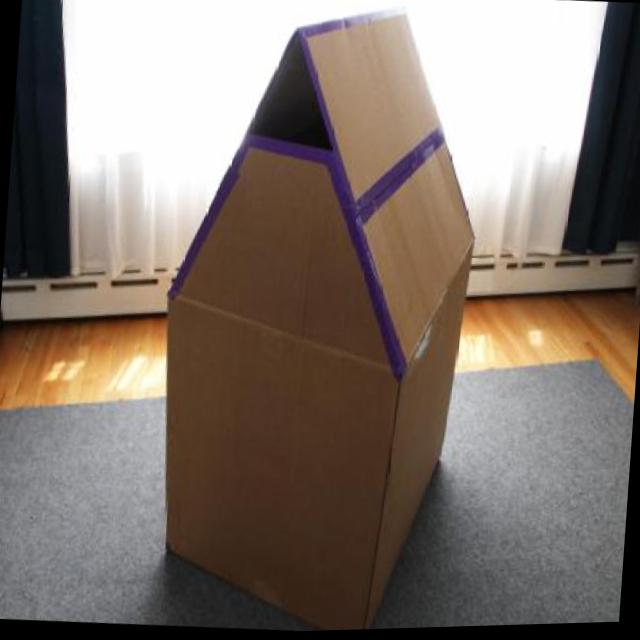box: (139, 0, 496, 637)
